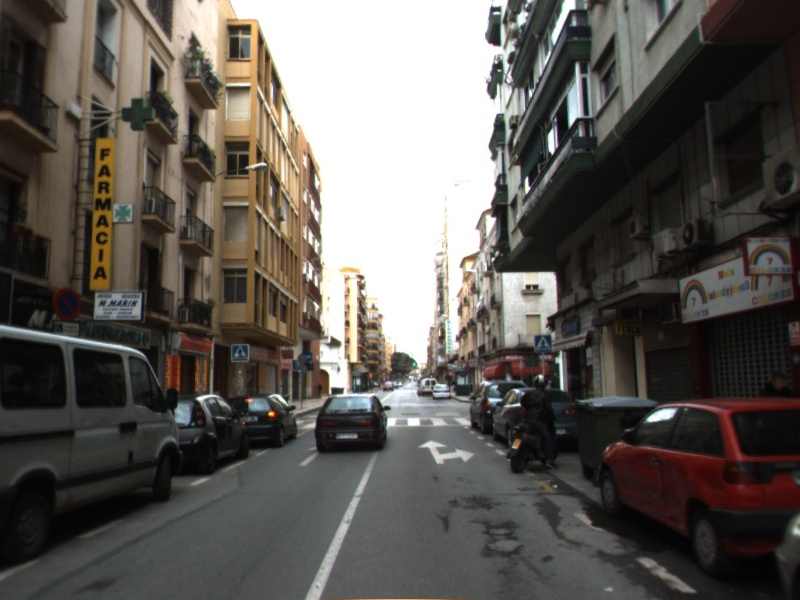STRAIGHT_RIGHT: (416, 438, 476, 466)
